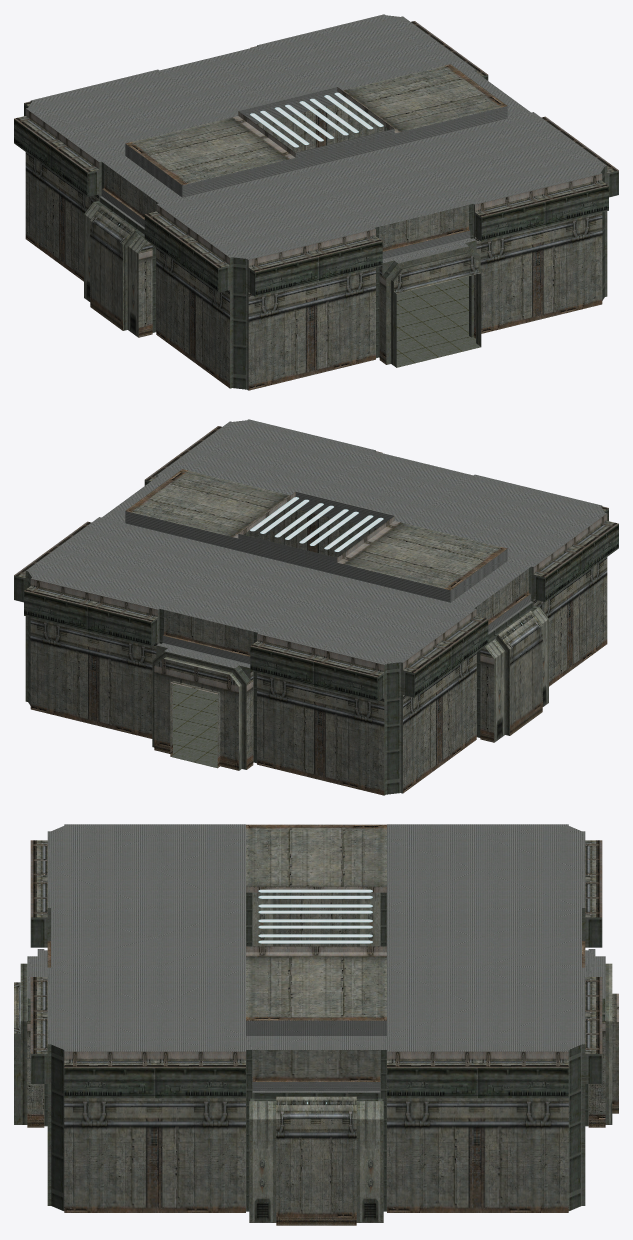
Rendered from poi_all_impl_bunker_crimelord_retreat_s01_r8_guardpost01_mesh_r8.fbx.
The picture shows the model from 3 angles, top to bottom: view 1: azimuth 30°, elevation 25°; view 2: azimuth 150°, elevation 25°; view 3: azimuth 270°, elevation 25°; orthographic projection. The views are drawn at different scales.
Parts seen in each view (by area): view 1: mesh_node; view 2: mesh_node; view 3: mesh_node.
Part boxes in pixels (x1,y1,x2,y2): mesh_node: (14,14,618,390); mesh_node: (14,419,618,795); mesh_node: (14,824,618,1225).
Bounding box in the file's own units: 17.8 × 6 × 18.
